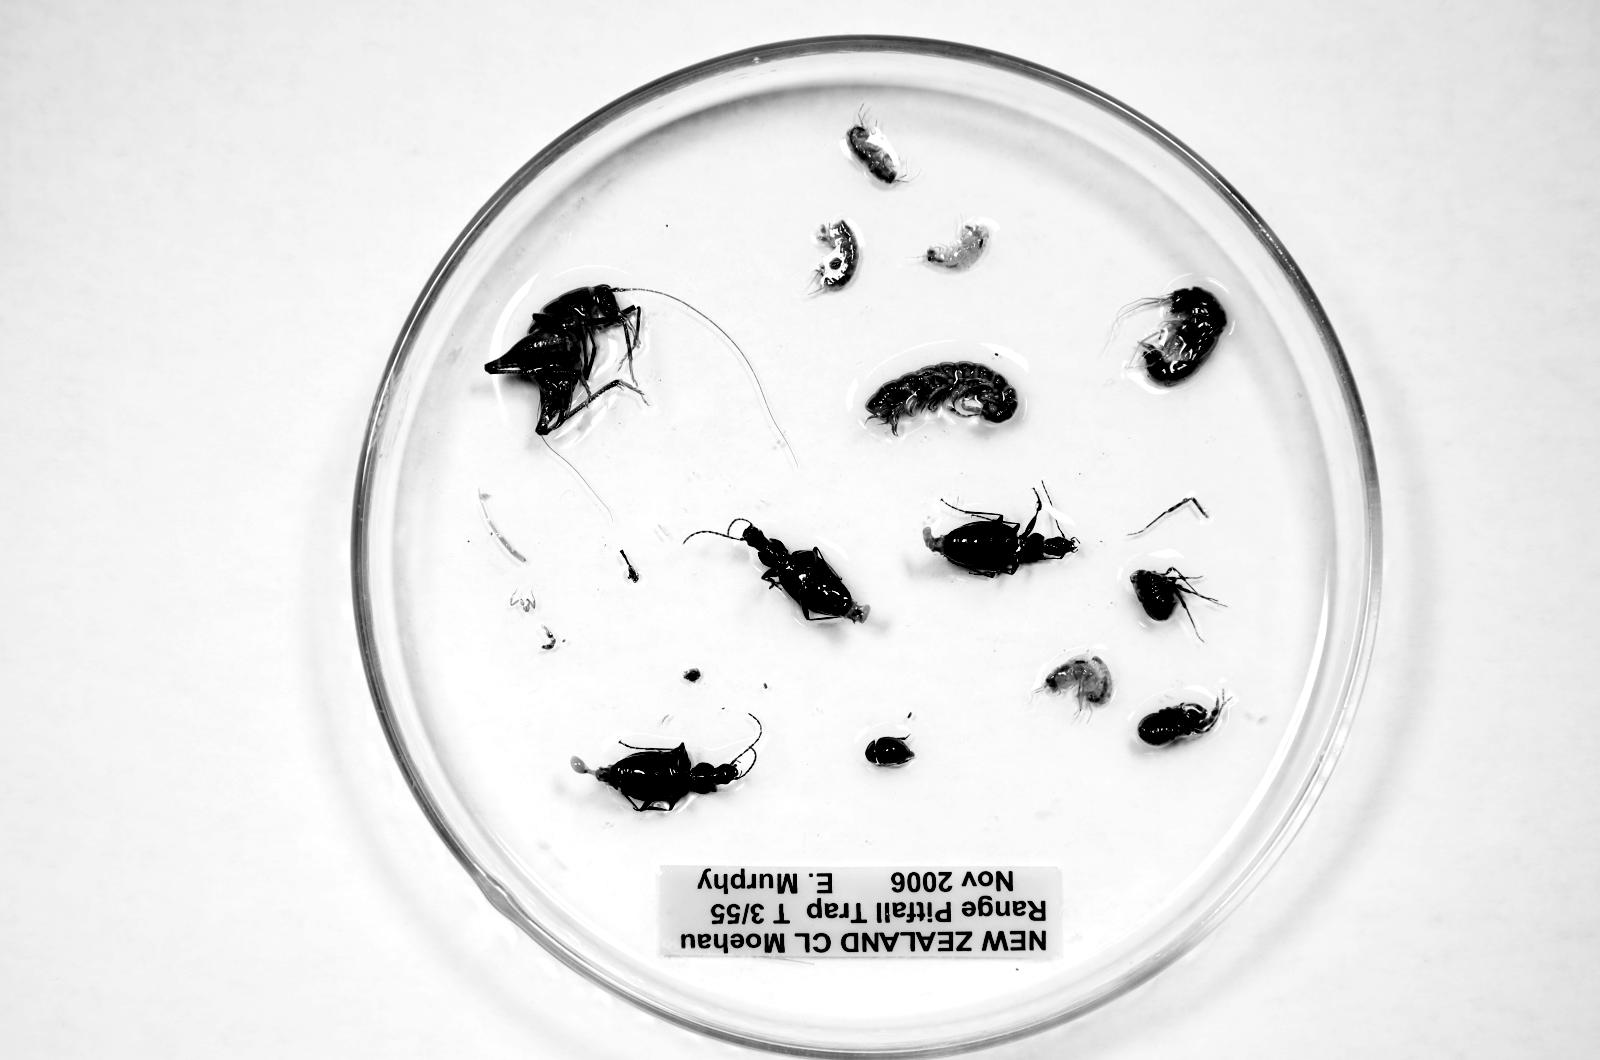amphipoda: (1134, 287, 1227, 386), (1044, 654, 1113, 718), (845, 114, 901, 184), (924, 218, 993, 270)
carabidae: (571, 743, 755, 811), (741, 524, 868, 622), (924, 513, 1076, 577)
coleoptera: (865, 736, 914, 766)
diplopoda: (866, 361, 1018, 436)
opiliones: (1130, 566, 1220, 620), (1137, 701, 1223, 745)
orthoptera: (485, 284, 642, 435)
